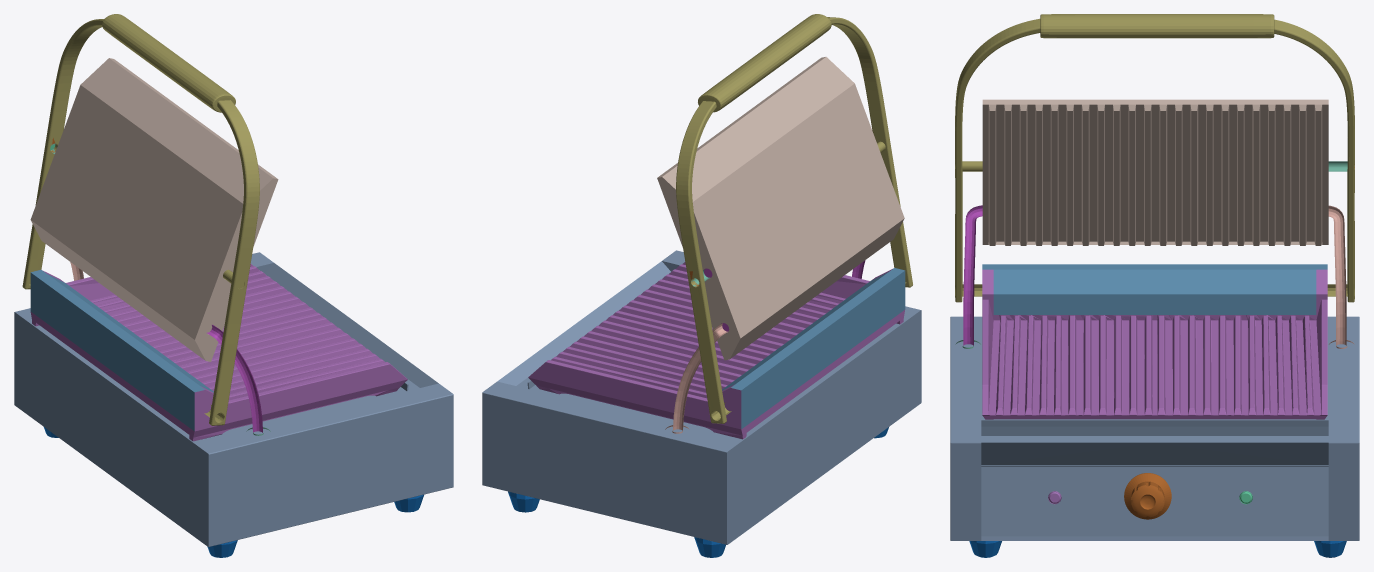
3 renders of one model, left to right at view 1: azimuth 30°, elevation 25°; view 2: azimuth 150°, elevation 25°; view 3: azimuth 270°, elevation 25°, orthographic. The views are drawn at different scales.
Parts seen in each view (by area): view 1: world; view 2: world; view 3: world.
Part boxes in pixels (x1,y1,x2,y2): world: (14,14,453,557); world: (482,14,921,557); world: (950,14,1359,557).
Size of the model in its own units: 0.6282 by 0.9959 by 0.8114.
